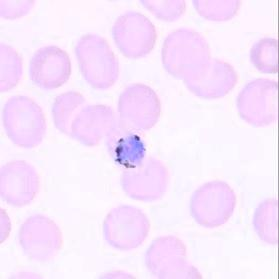Infected: (105, 126, 145, 170)
Uninfected: (162, 28, 211, 80), (74, 33, 119, 89), (189, 179, 235, 228), (2, 96, 46, 147), (111, 11, 158, 58), (19, 213, 64, 259), (102, 204, 149, 248), (184, 61, 237, 100), (236, 79, 279, 127), (120, 157, 168, 199), (0, 158, 37, 207), (118, 86, 160, 129), (71, 103, 113, 145), (30, 45, 70, 88), (52, 92, 93, 133), (144, 235, 187, 272)
